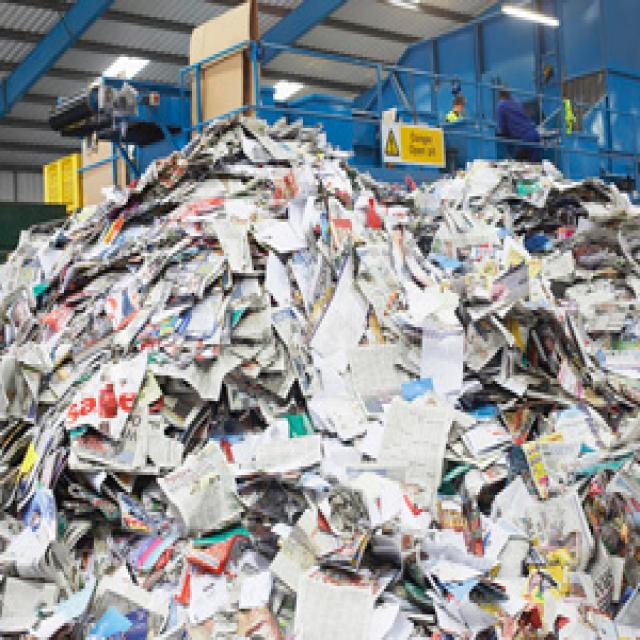Paper -Biodegradable-: (0, 115, 640, 640)
